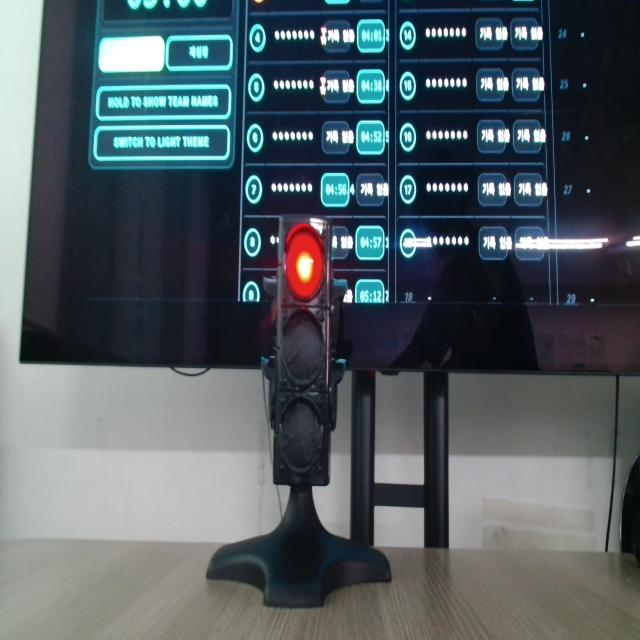red_light: (286, 224, 323, 301)
